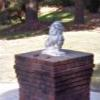Statue: (31, 12, 74, 64)
